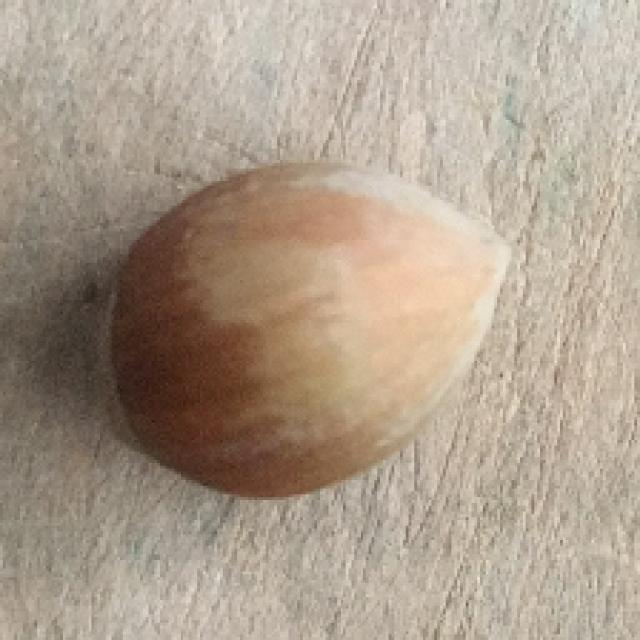qualityHazelnut: (84, 121, 518, 522)
